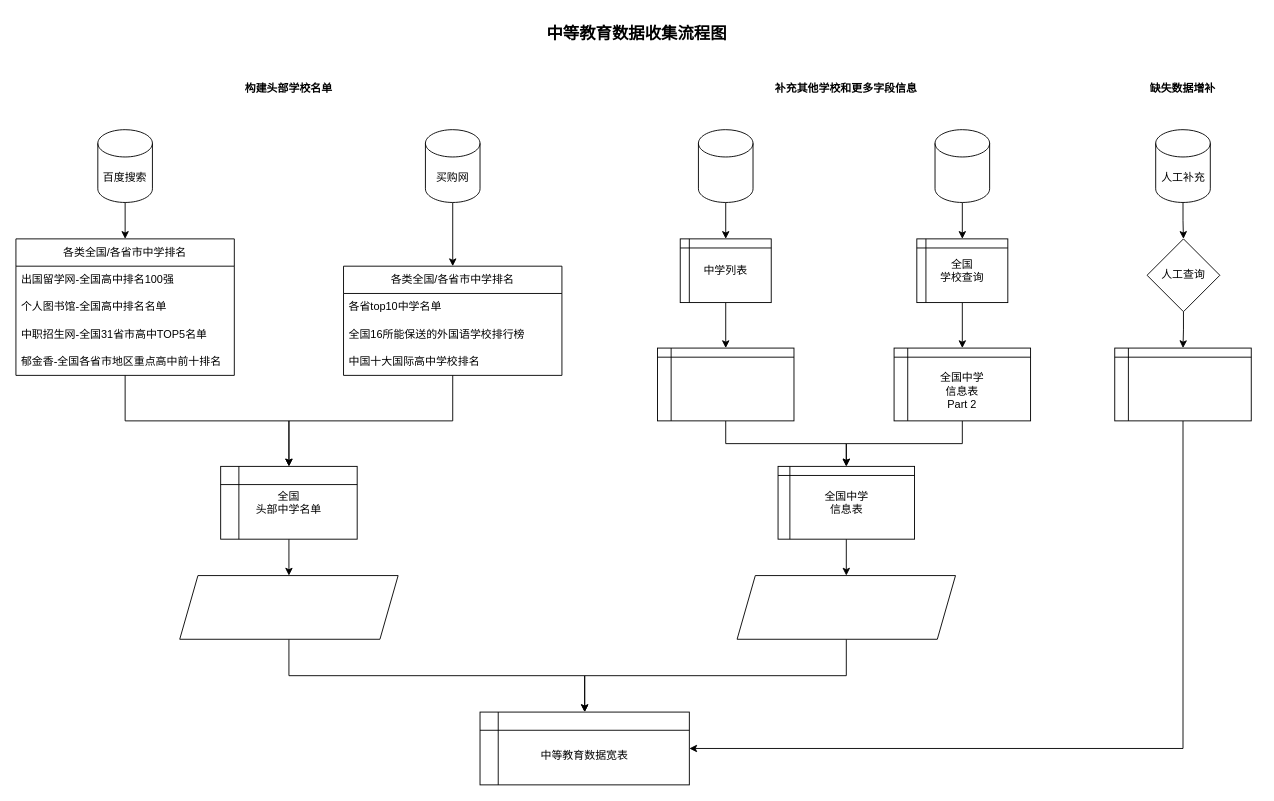
Image size: 1274x801. Some labels were removed from this diagram. The shapes that lost their labels are listed below. From the top down, each one's box as (x1, y1, x2, y2) in pixels, then its label:
(698, 129, 753, 202): 我要 搜学网
(934, 129, 990, 202): 学校大全
(657, 347, 794, 421): 全国中学 信息表 Part 1
(1114, 347, 1251, 421): 全国中学 信息补充表
(179, 575, 398, 639): 学校名称，所在省份，所在城市， 学校地址
(736, 575, 956, 639): 学校名称，地区，属性，性质， 类型，学校地址，联系电话，官网 省级位置，地级位置，县级位置
